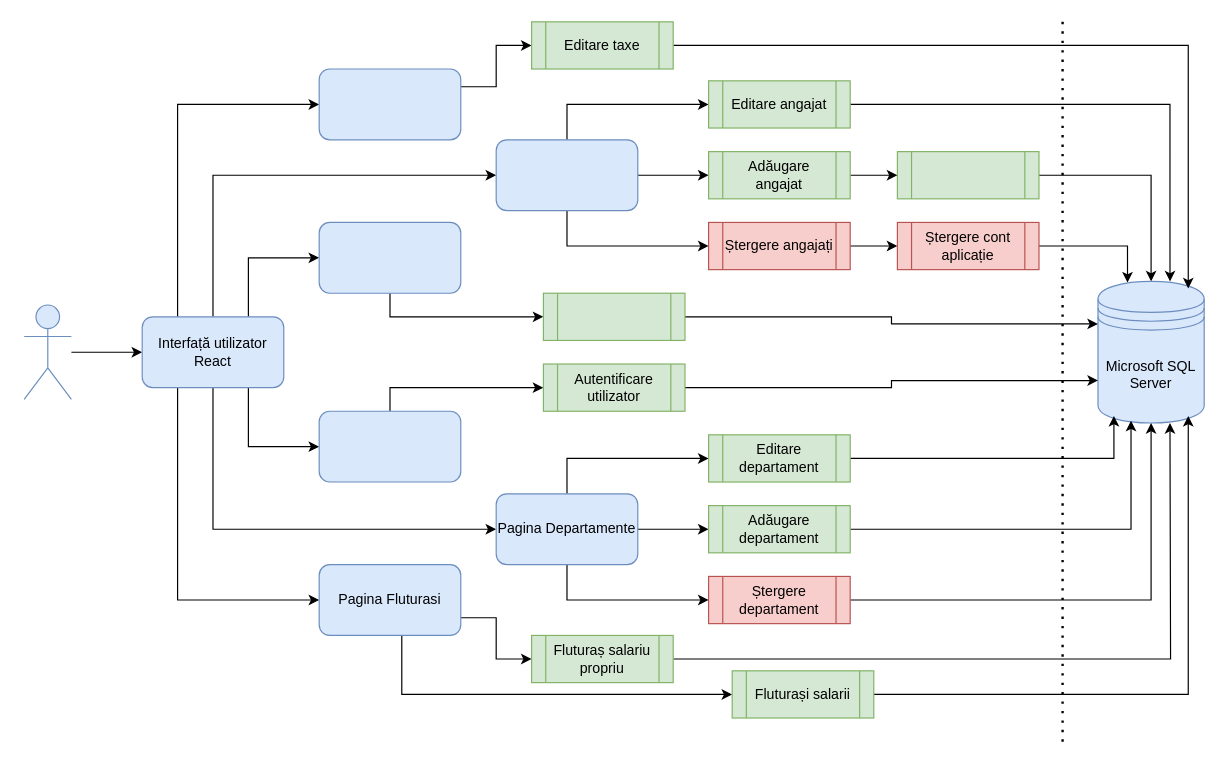
This 1225x763 diagram has some shape labels left out. The shapes that lost their labels are listed below. From the top down, each one's box as (x1, y1, x2, y2) in pixels, then its label:
(318, 68, 461, 140): Pagina Configurare
(495, 139, 638, 211): Pagina Angajati
(896, 150, 1039, 199): Creare cont aplicație
(318, 221, 461, 293): Pagina Profil
(542, 292, 685, 340): Schimbare parolă
(23, 304, 71, 399): Utilizator
(318, 410, 461, 482): Pagina Autentificare
